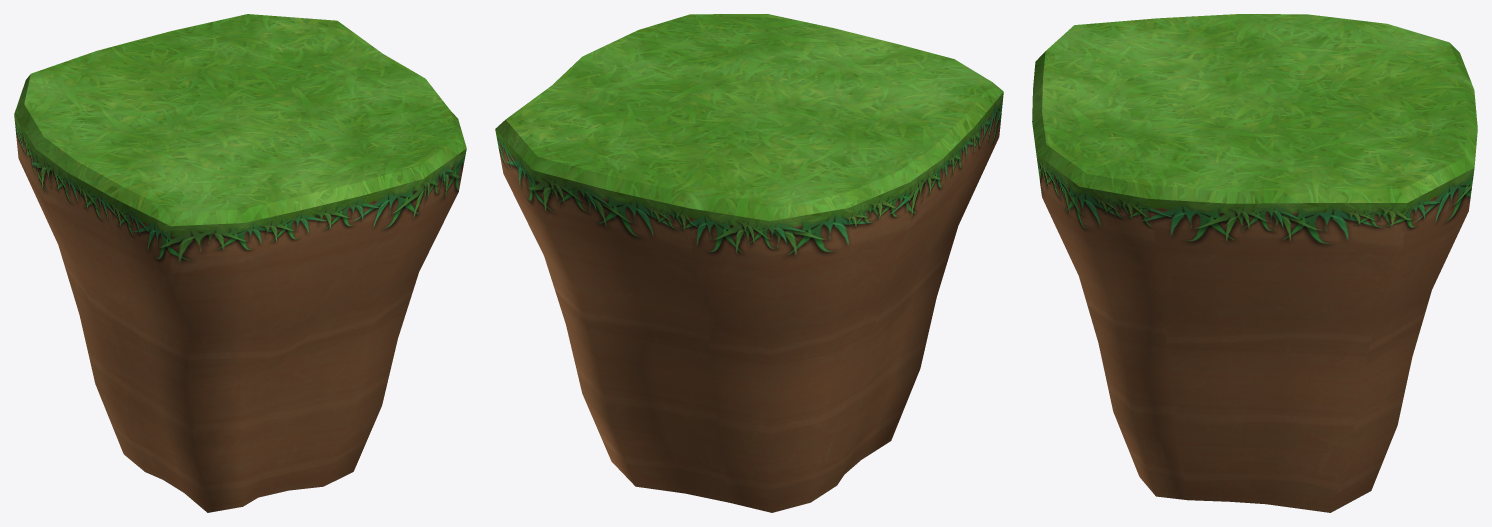
The model's file is lvl1_plat008.FBX.
3 views of the same model, side by side, from view 1: azimuth 30°, elevation 25°; view 2: azimuth 150°, elevation 25°; view 3: azimuth 270°, elevation 25° (orthographic). The views are drawn at different scales.
Parts seen in each view (by area): view 1: lvl1_plat008, lvl1_plat008_grass; view 2: lvl1_plat008, lvl1_plat008_grass; view 3: lvl1_plat008, lvl1_plat008_grass.
Boxes of the visible parts, box(x1,y1,x2,y2) form: lvl1_plat008: box(14, 115, 466, 512); lvl1_plat008_grass: box(14, 14, 466, 226); lvl1_plat008: box(495, 92, 1003, 512); lvl1_plat008_grass: box(495, 14, 1003, 221); lvl1_plat008: box(1036, 154, 1474, 512); lvl1_plat008_grass: box(1032, 14, 1477, 203).
Bounding box in the file's own units: 239 × 218 × 245.
